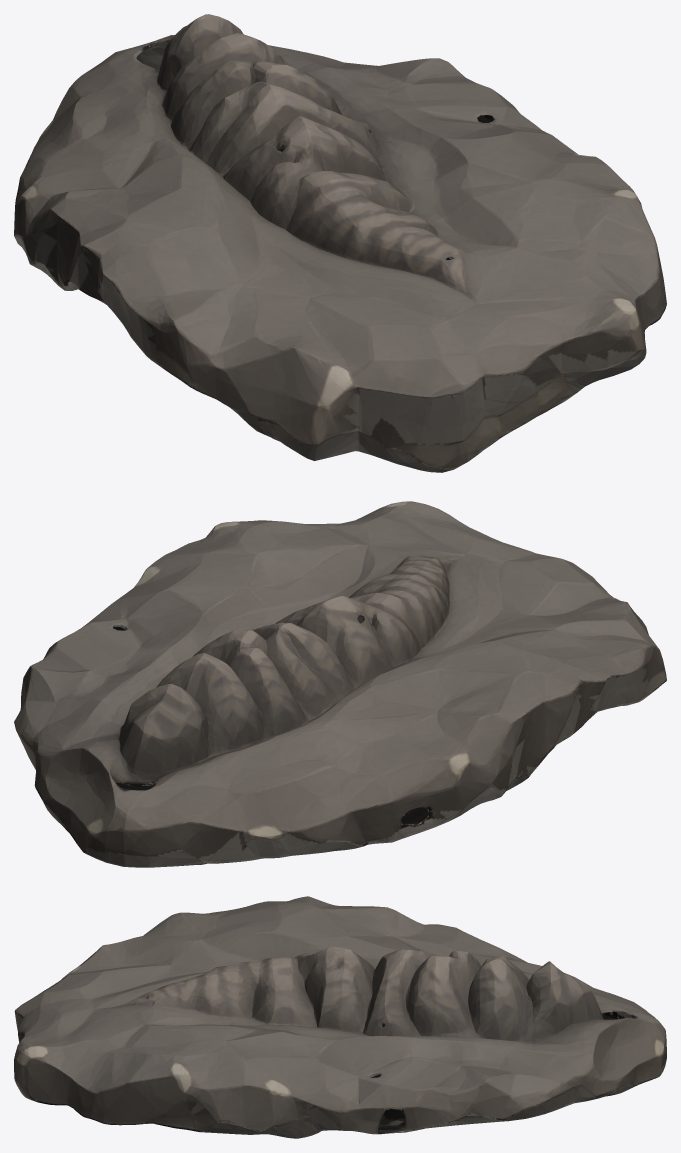
3 views of the same model, one above another, from view 1: azimuth 30°, elevation 25°; view 2: azimuth 150°, elevation 25°; view 3: azimuth 270°, elevation 25° (orthographic). The views are drawn at different scales.
Visible parts, largest first — view 1: world; view 2: world; view 3: world.
Boxes of the visible parts, <box> form: world: <box>14,14,666,472</box>; world: <box>14,501,666,867</box>; world: <box>14,896,666,1138</box>.
Size of the model in its own units: 0.6955 by 0.2519 by 0.9995.
1 material, 1 textured.
